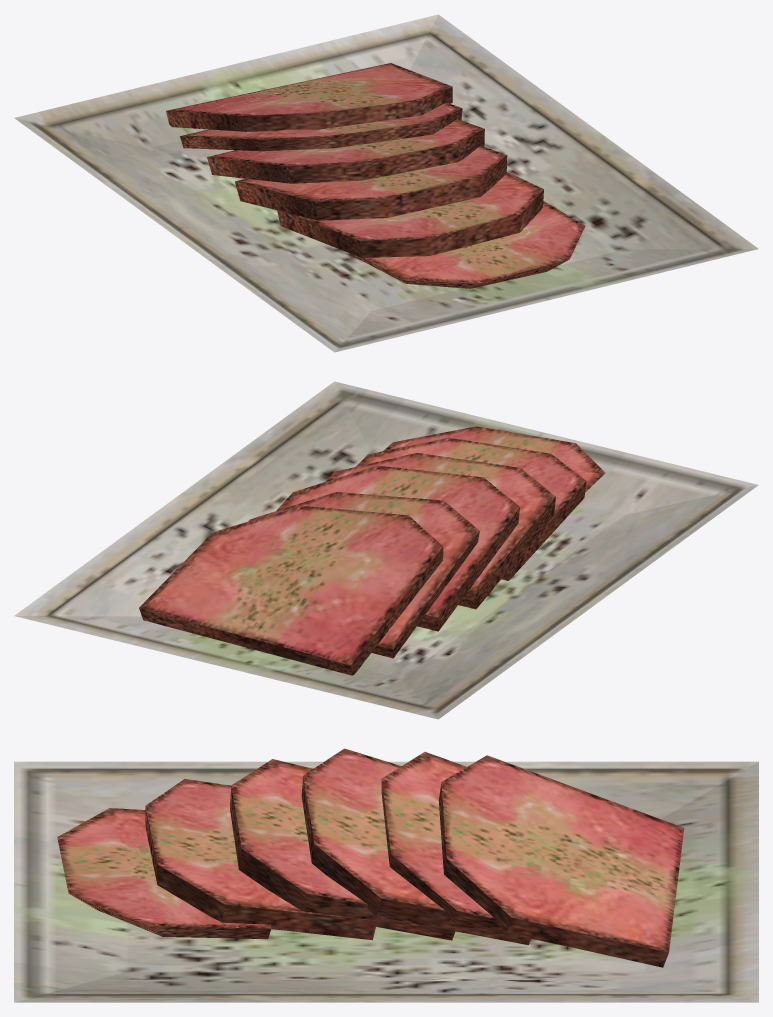
File: edb_dish_trimpian_l0.fbx
3 renders of one model, top to bottom at view 1: azimuth 30°, elevation 25°; view 2: azimuth 150°, elevation 25°; view 3: azimuth 270°, elevation 25°, orthographic. The views are drawn at different scales.
Visible parts, largest first — view 1: mesh_node; view 2: mesh_node; view 3: mesh_node.
Boxes of the visible parts, <box> form: mesh_node: <box>14,14,758,352</box>; mesh_node: <box>14,381,758,719</box>; mesh_node: <box>14,748,758,1002</box>.
Bounding box in the file's own units: 0.4064 × 0.079 × 0.5313.
Materials: 1 (1 with a texture image).
